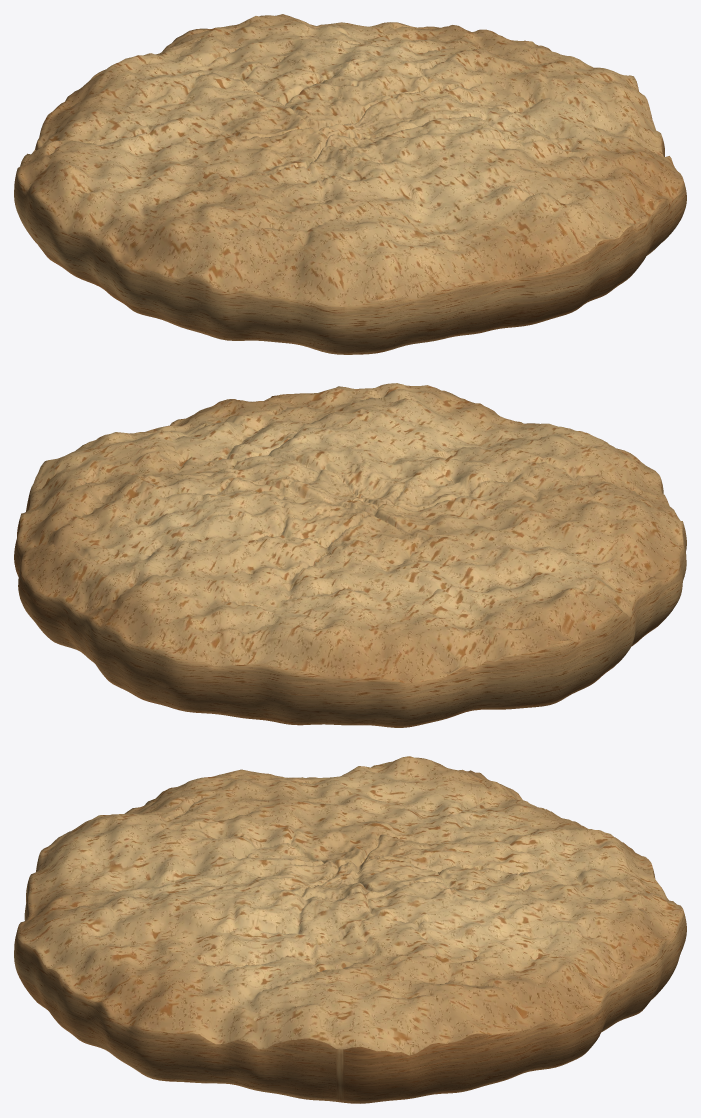
Rendered from almond.glb.
The picture shows the model from 3 angles, top to bottom: view 1: azimuth 30°, elevation 25°; view 2: azimuth 150°, elevation 25°; view 3: azimuth 270°, elevation 25°; orthographic projection. The views are drawn at different scales.
Visible parts, largest first — view 1: Builder dough | almond; view 2: Builder dough | almond; view 3: Builder dough | almond.
Boxes of the visible parts, x1,y1,x2,y2 form: Builder dough | almond: (14,14,686,354); Builder dough | almond: (14,383,686,727); Builder dough | almond: (14,756,686,1103).
Bounding box in the file's own units: 4.99 × 0.8773 × 4.98.
2 materials, 2 textured.
